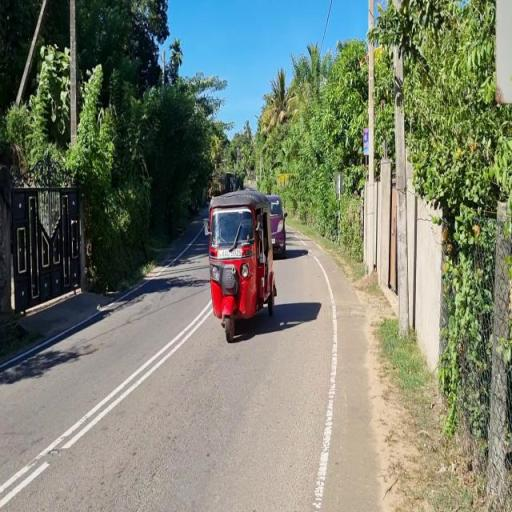double_white_line: (0, 303, 211, 507)
